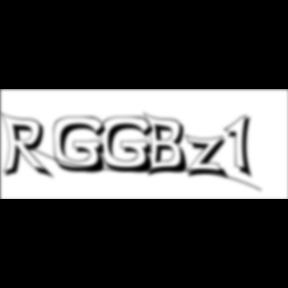1: (224, 114, 258, 182)
B: (143, 111, 193, 179)
G: (53, 116, 112, 176), (102, 116, 160, 176)
R: (1, 112, 58, 182)
z: (184, 134, 234, 182)
